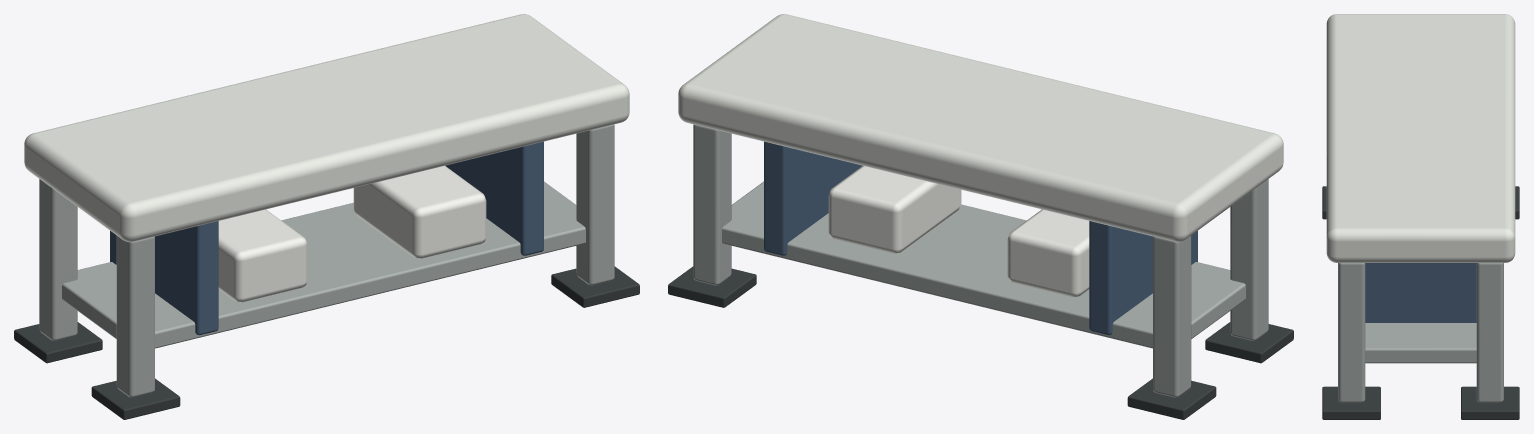
Rendered from spacecraft-parachute-packing-hall-spacecraft-parachute-aa671008__32123.glb.
3 renders of one model, left to right at view 1: azimuth 30°, elevation 25°; view 2: azimuth 150°, elevation 25°; view 3: azimuth 270°, elevation 25°, orthographic. The views are drawn at different scales.
Visible parts, largest first — view 1: spacecraft-parachute-packing-hall-clean-footwear-bench; view 2: spacecraft-parachute-packing-hall-clean-footwear-bench; view 3: spacecraft-parachute-packing-hall-clean-footwear-bench.
Part boxes in pixels (x1,y1,x2,y2): spacecraft-parachute-packing-hall-clean-footwear-bench: (14,14,639,419); spacecraft-parachute-packing-hall-clean-footwear-bench: (668,14,1293,419); spacecraft-parachute-packing-hall-clean-footwear-bench: (1322,14,1519,419).
Bounding box in the file's own units: 1.27 × 0.49 × 0.4699.
